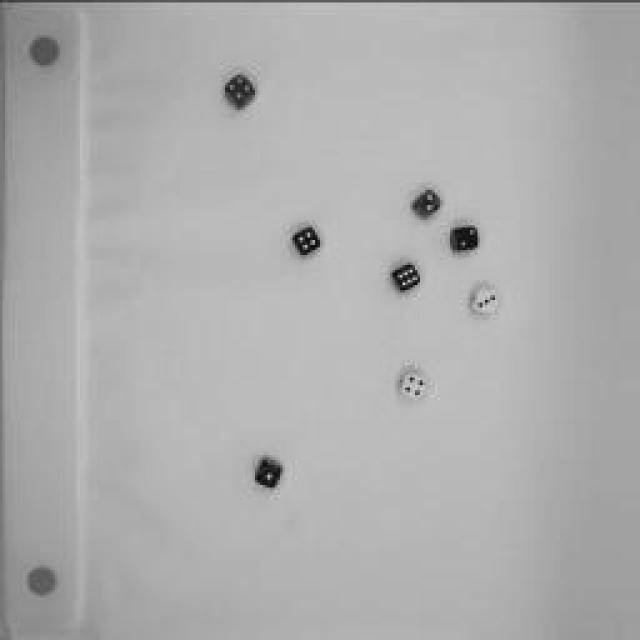dice_1: (252, 454, 286, 491)
dice_2: (411, 185, 444, 220), (448, 221, 482, 254)
dice_3: (465, 282, 503, 320)
dice_4: (221, 70, 261, 112), (290, 224, 325, 258), (395, 369, 430, 401)
dice_6: (390, 260, 422, 298)
